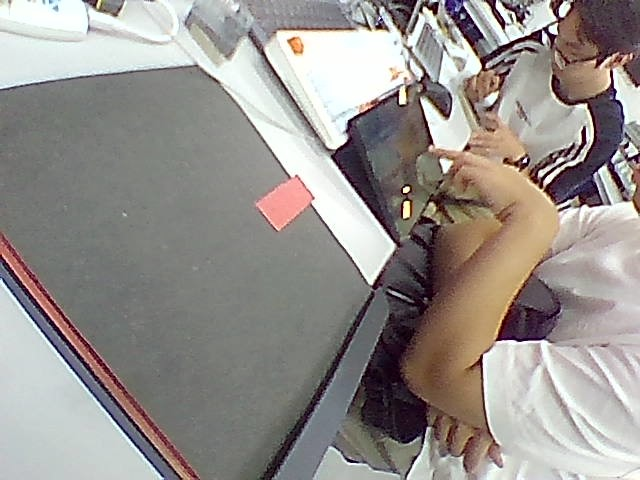card: (256, 176, 313, 231)
